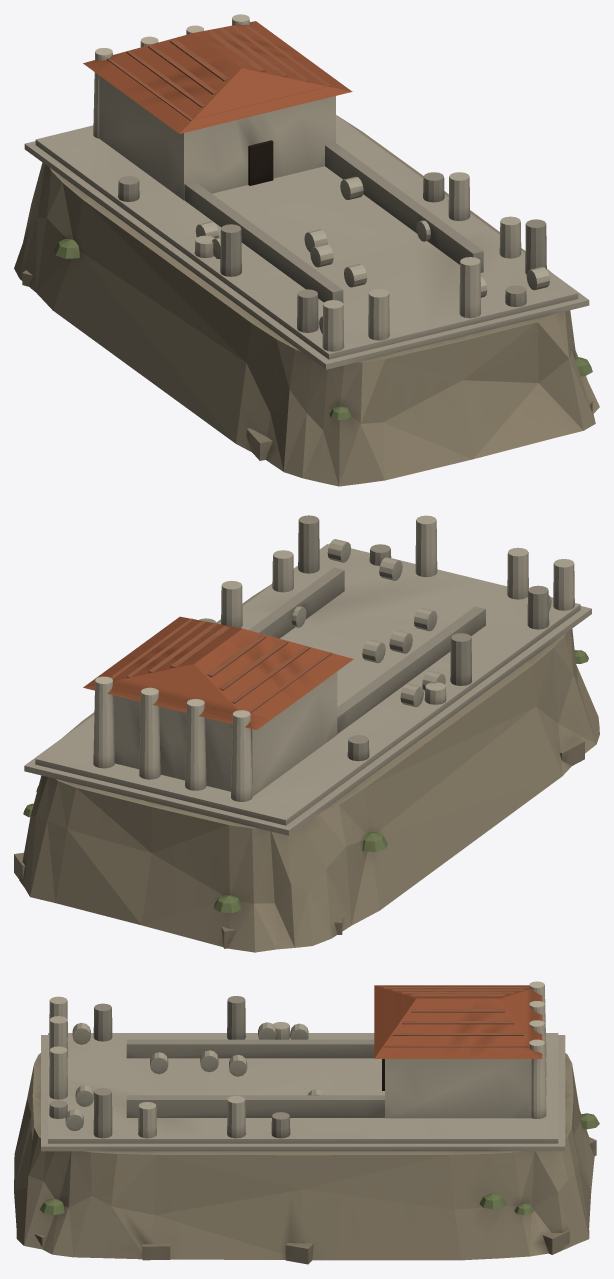
The model's file is old-temple-ruin.glb.
The picture shows the model from 3 angles, top to bottom: view 1: azimuth 30°, elevation 25°; view 2: azimuth 150°, elevation 25°; view 3: azimuth 270°, elevation 25°; orthographic projection. The views are drawn at different scales.
Visible parts, largest first — view 1: p0_base, p2_treasury, p1_ruins; view 2: p0_base, p2_treasury, p1_ruins; view 3: p0_base, p2_treasury, p1_ruins.
Boxes of the visible parts, x1=… form: p0_base: x1=14, y1=115, x2=599, y2=486; p2_treasury: x1=83, y1=14, x2=352, y2=200; p1_ruins: x1=118, y1=142, x2=549, y2=351; p0_base: x1=14, y1=543, x2=599, y2=952; p2_treasury: x1=83, y1=616, x2=353, y2=801; p1_ruins: x1=199, y1=515, x2=574, y2=761; p0_base: x1=14, y1=1033, x2=599, y2=1264; p2_treasury: x1=374, y1=981, x2=546, y2=1118; p1_ruins: x1=49, y1=996, x2=384, y2=1138.
Bounding box in the file's own units: 28.71 × 18.12 × 49.85.
